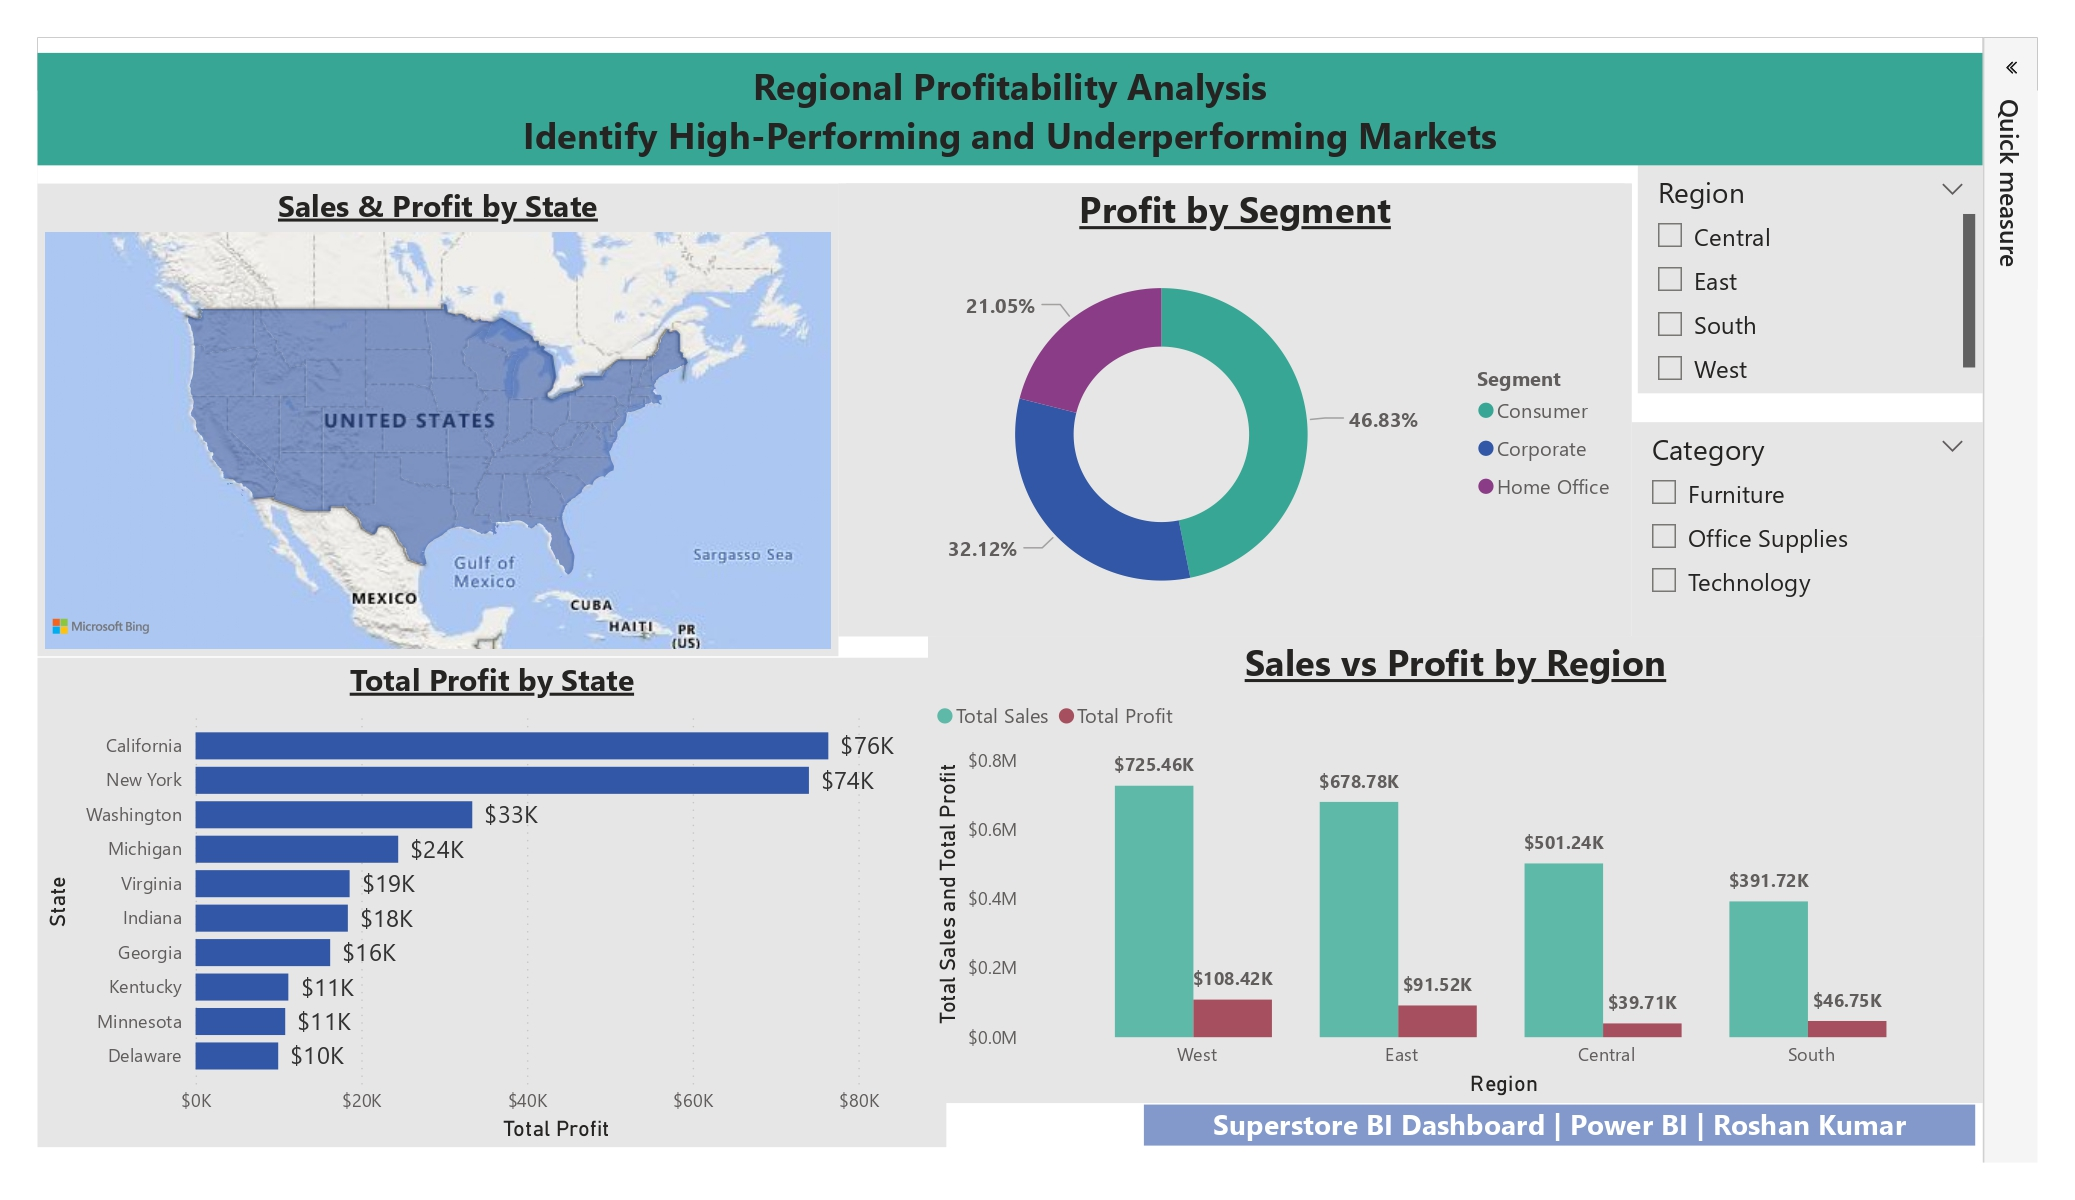

This screenshot's page, from the dashboard's own definition file:
{"tool":"powerbi","page":{"name":"Regional Profitability Analysis","canvas":[1280,720],"ordinal":1},"visuals":[{"type":"filledMap","title":"Sales & Profit by State","fields":{"Category":["Superstore.State"]},"box":[0,85.9,527.2,311.6],"z":0},{"type":"clusteredBarChart","title":"Total Profit by State","fields":{"Category":["Superstore.State"],"Y":["Superstore.Total Profit"]},"box":[0,398,598,322],"z":1000},{"type":"clusteredColumnChart","title":"Sales vs Profit by Region","fields":{"Category":["Superstore.Region"],"Y":["Superstore.Total Sales","Superstore.Total Profit"]},"box":[586.1,384,693.9,306.5],"z":2000},{"type":"donutChart","title":"Profit by Segment","fields":{"Category":["Superstore.Segment"],"Y":["Superstore.Total Profit"]},"box":[527.2,85.9,522.1,298.1],"z":3000},{"type":"slicer","fields":{"Values":["Superstore.Region"]},"box":[1052.6,74.1,227.4,149.9],"z":4000},{"type":"slicer","fields":{"Values":["Superstore.Category"]},"box":[1049.3,242.5,230.7,141.5],"z":5000},{"type":"textbox","title":"Superstore BI Dashboard | Power BI | Roshan Kumar","box":[727.6,692.2,547.4,26.9],"z":6000},{"type":"textbox","box":[0,0,1280,74.1],"z":7000}]}

Visuals, with their boxes on the page's 1280x720 design canvas (x1, y1, x2, y2). These are canvas units, not pixel positions in the 2075x1200 screenshot, which may show the page scaled, cropped or inside an application window:
"Sales & Profit by State" filledMap: (left=0, top=86, right=527, bottom=398)
"Total Profit by State" clusteredBarChart: (left=0, top=398, right=598, bottom=720)
"Sales vs Profit by Region" clusteredColumnChart: (left=586, top=384, right=1280, bottom=690)
"Profit by Segment" donutChart: (left=527, top=86, right=1049, bottom=384)
slicer - Superstore.Region: (left=1053, top=74, right=1280, bottom=224)
slicer - Superstore.Category: (left=1049, top=242, right=1280, bottom=384)
"Superstore BI Dashboard | Power BI | Roshan Kumar" textbox: (left=728, top=692, right=1275, bottom=719)
textbox: (left=0, top=0, right=1280, bottom=74)
